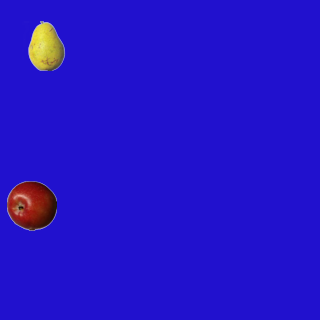Apple Braeburn: (6, 180, 56, 230)
Pear Monster: (21, 20, 71, 70)
